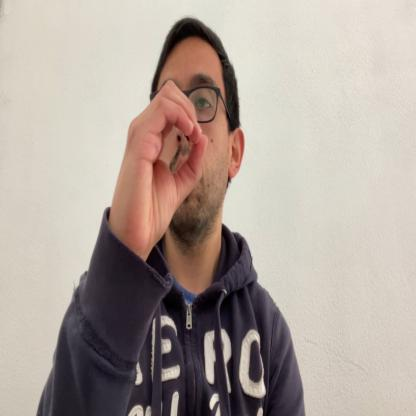O: (115, 79, 209, 252)
